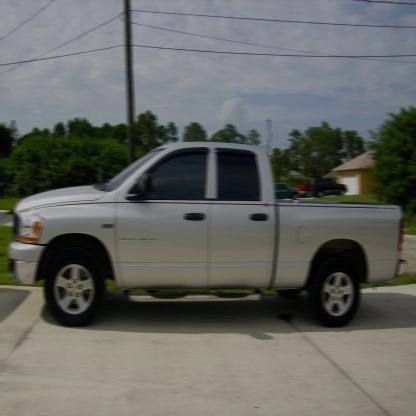Vehicle: (10, 141, 404, 328)
